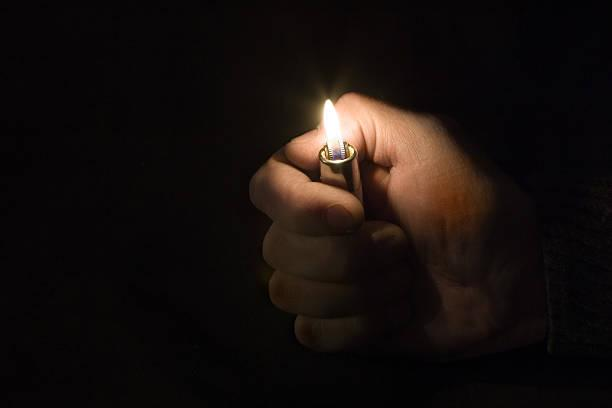Fire: (321, 99, 345, 152)
